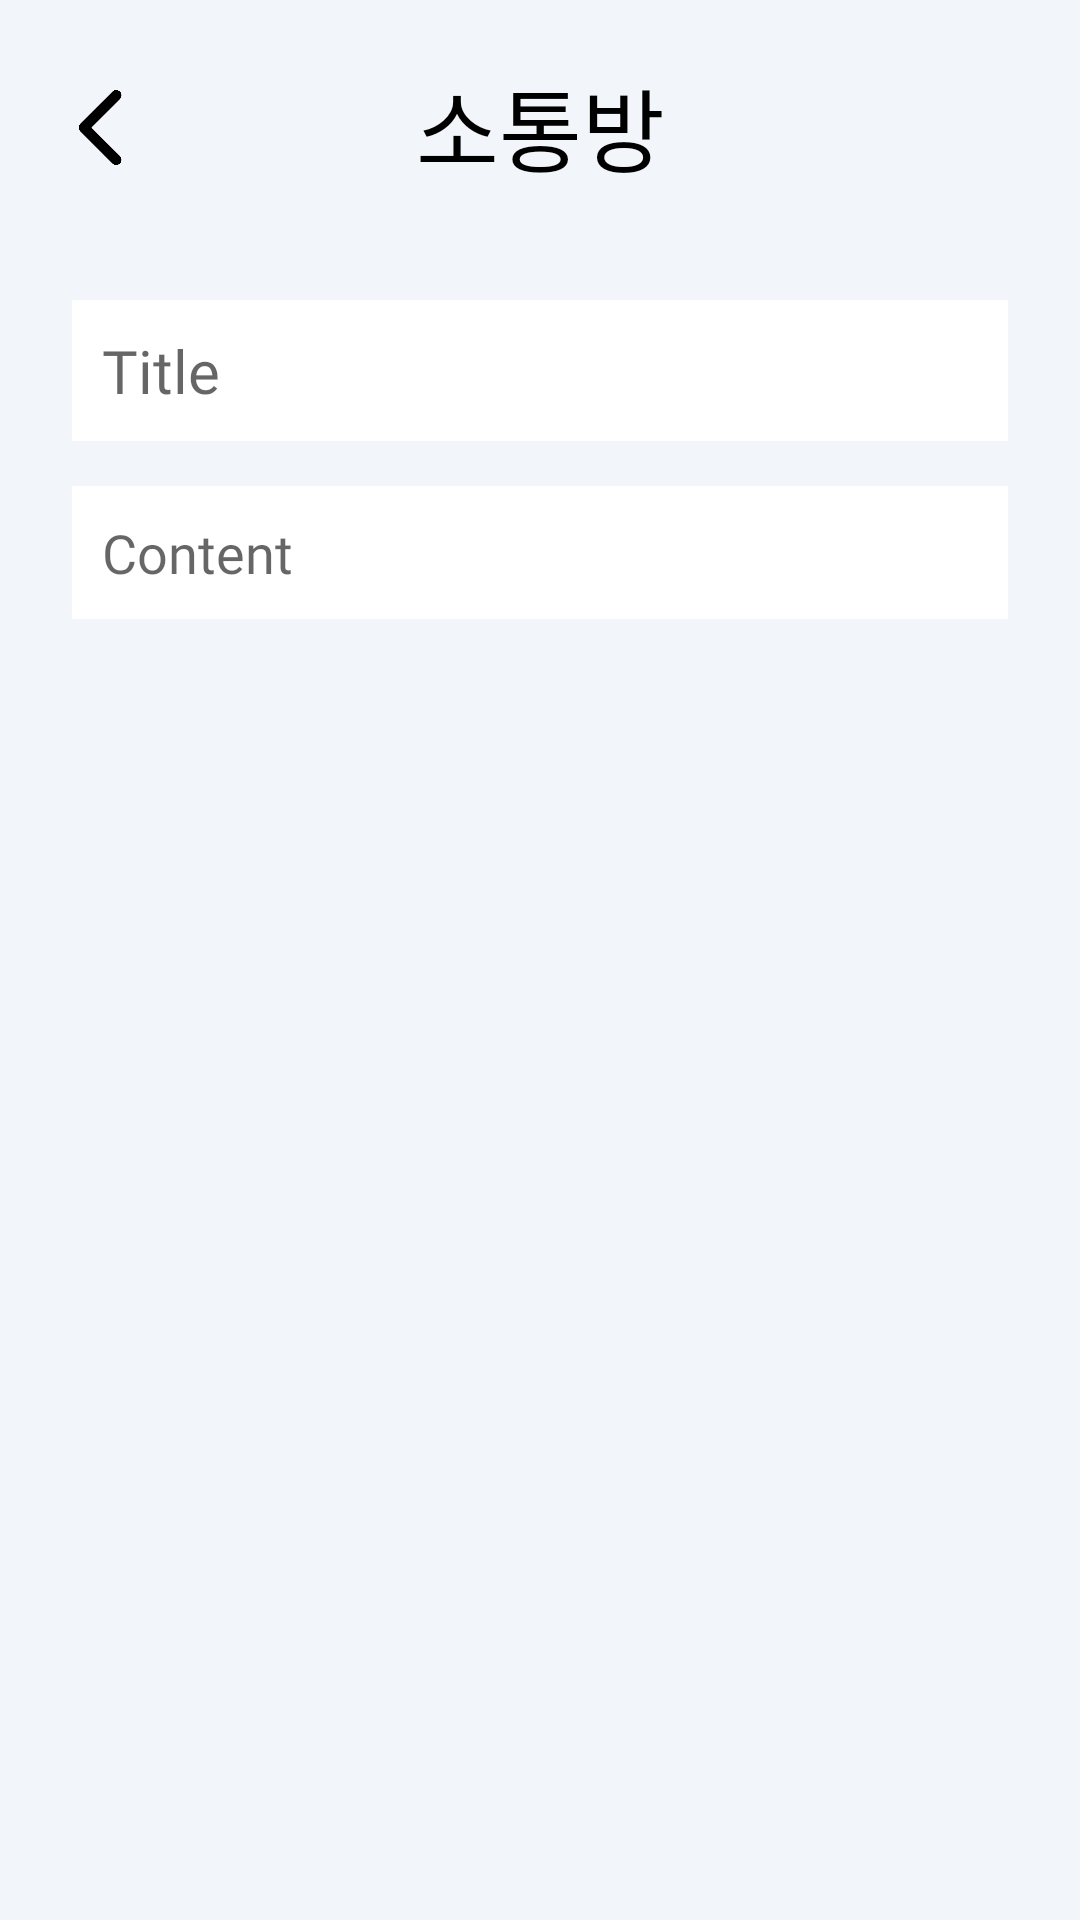

Screen size 1080 x 1920. Icon name, then its center in pixels as [x,y]:
left arrow: [100,127]
